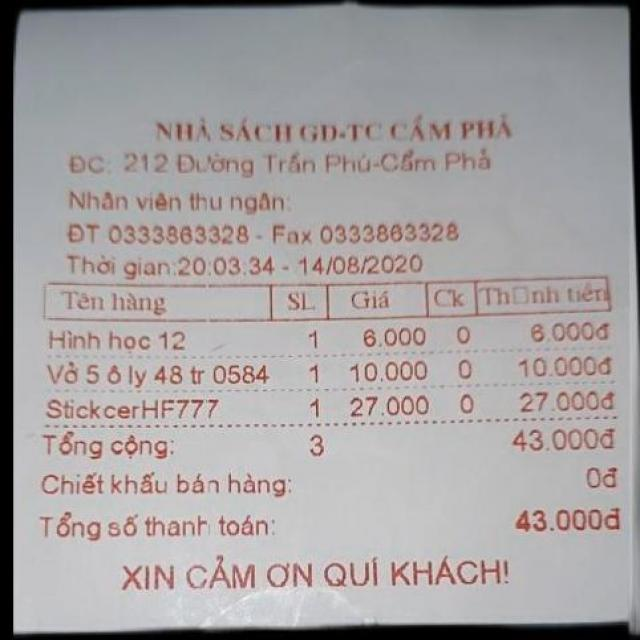Date: (293, 249, 444, 278)
Store_Name: (131, 107, 521, 153)
Total_Amount: (28, 496, 633, 551)
